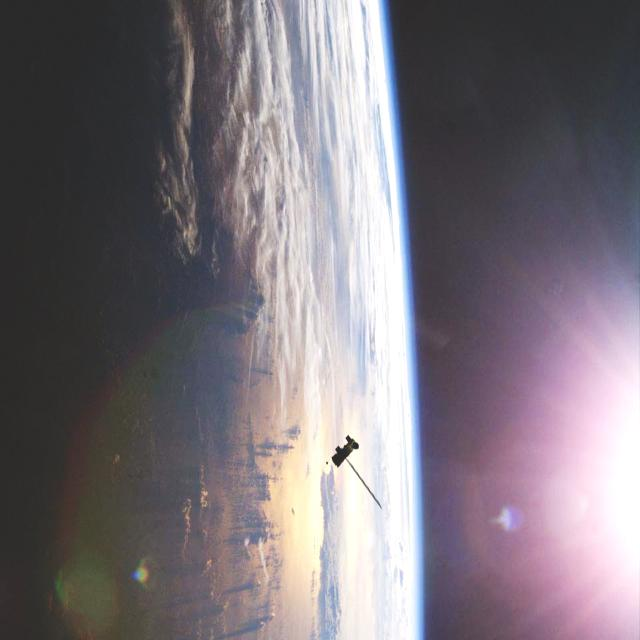satellite: (322, 429, 369, 473)
